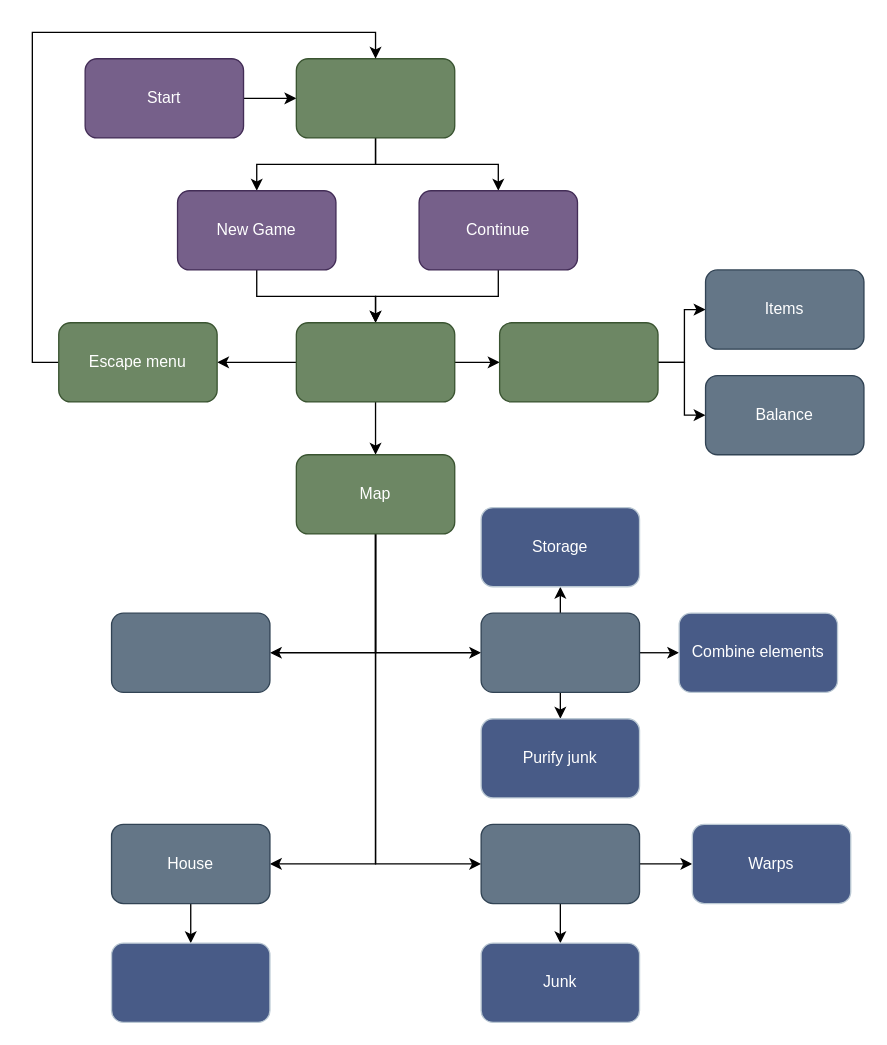
Some shapes in this 887 by 1045 pixel diagram are drawn without their labels. The centre of each missing label's shape, as x and y in pixels:
"Achivements" goes at (190,982).
"Game screen" goes at (375,361).
"Inventory" goes at (578,361).
"Laboratory" goes at (560,652).
"MainMenu" goes at (375,97).
"Park" goes at (560,863).
"Shop" goes at (190,652).
